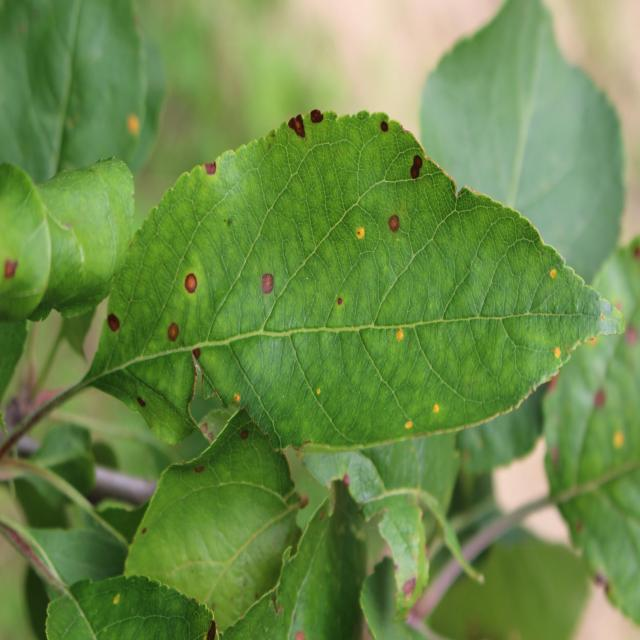rust: (88, 106, 625, 454), (543, 237, 640, 628)
